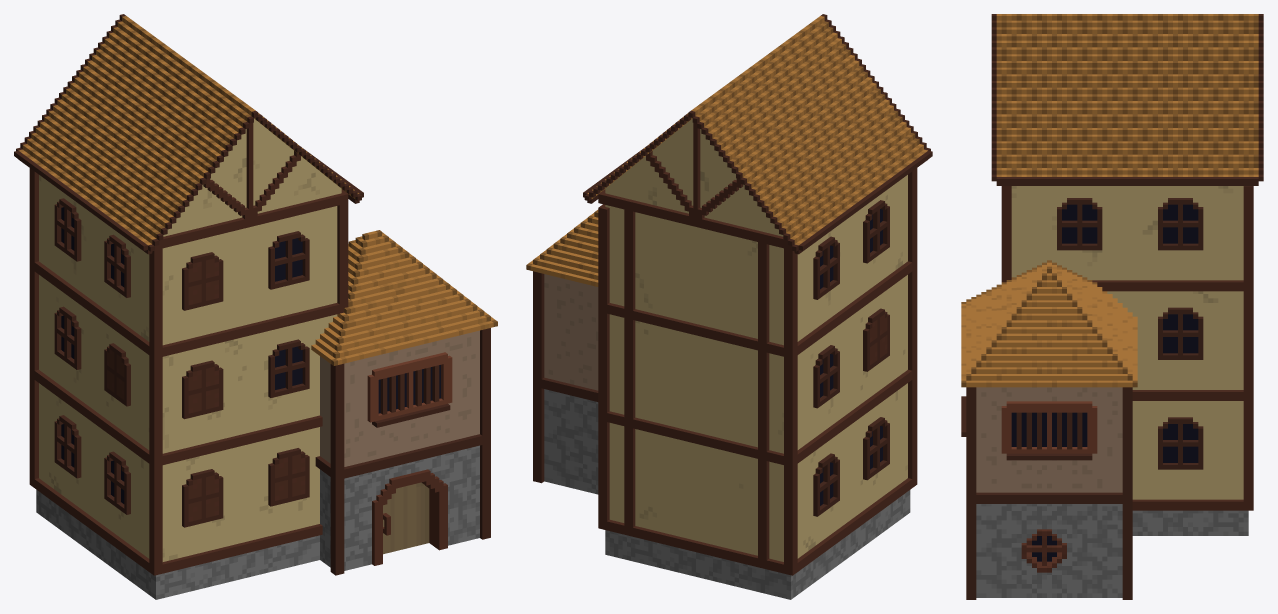
The model's file is MiddleAgesHoume8.obj.
3 renders of one model, left to right at view 1: azimuth 30°, elevation 25°; view 2: azimuth 150°, elevation 25°; view 3: azimuth 270°, elevation 25°, orthographic.
Bounding box in the file's own units: 7.8 × 10.4 × 6.
Materials: 1 (1 with a texture image).
